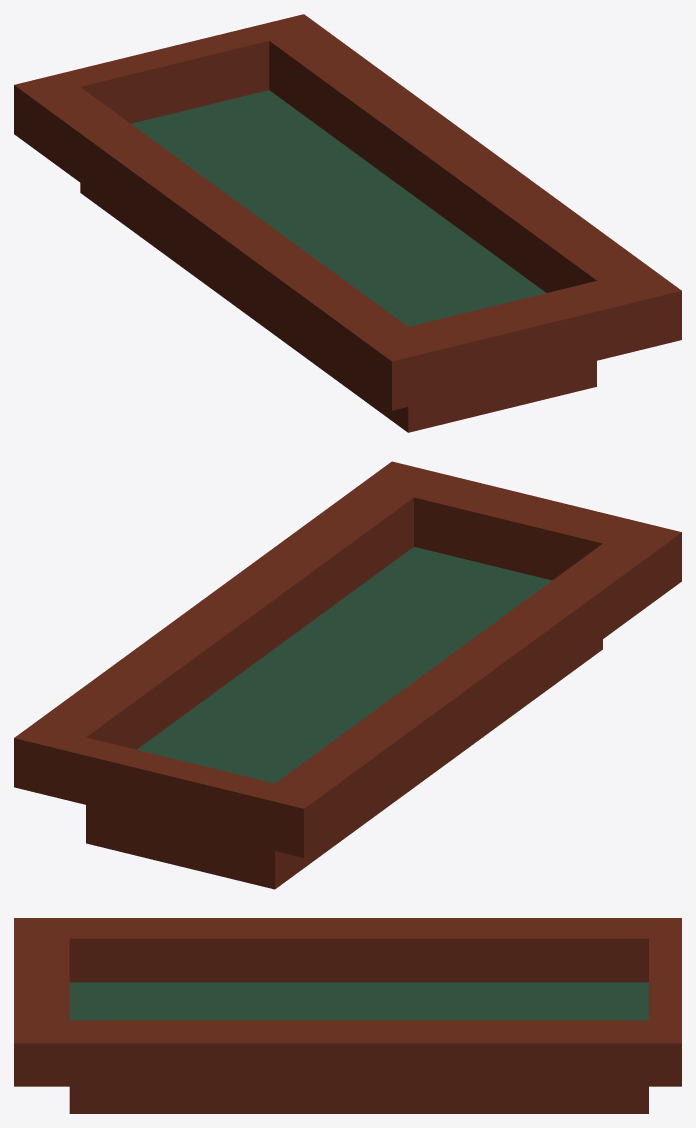
File: Jardinera.fbx
The picture shows the model from 3 angles, top to bottom: view 1: azimuth 30°, elevation 25°; view 2: azimuth 150°, elevation 25°; view 3: azimuth 270°, elevation 25°; orthographic projection. The views are drawn at different scales.
Visible parts, largest first — view 1: Jarinera; view 2: Jarinera; view 3: Jarinera.
Boxes of the visible parts, x1,y1,x2,y2 form: Jarinera: (14, 14, 681, 432); Jarinera: (14, 461, 681, 889); Jarinera: (14, 918, 681, 1113).
Bounding box in the file's own units: 200 × 69.81 × 451.
